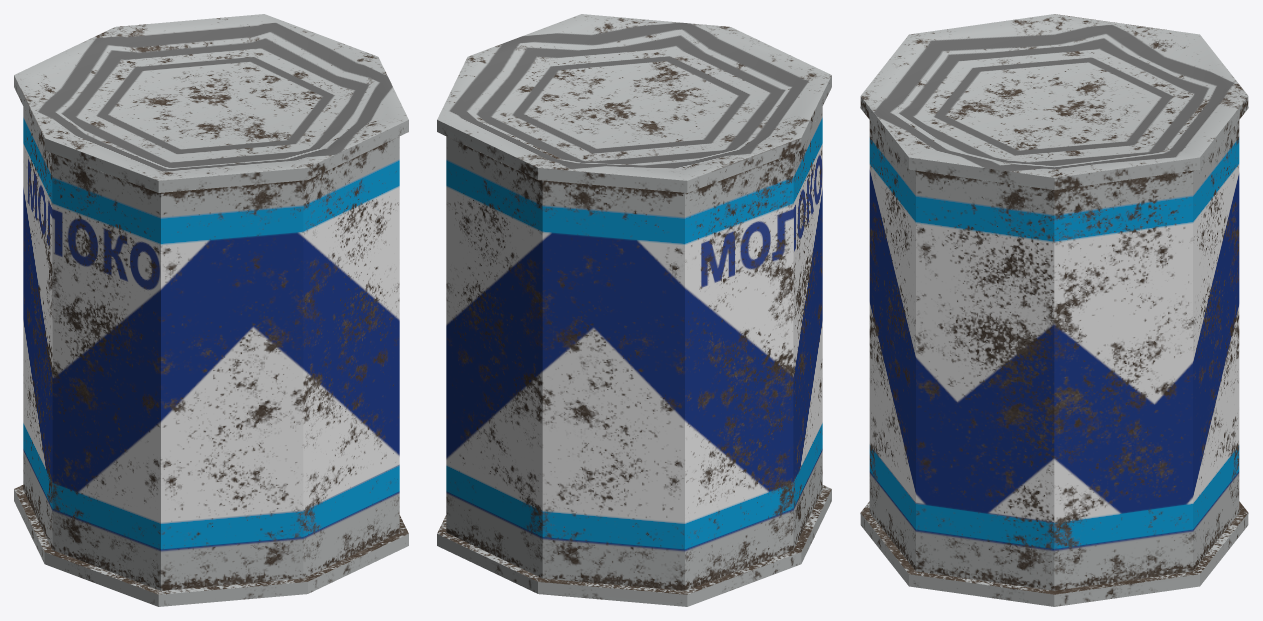
Rendered from Can_Textured.fbx.
3 views of the same model, side by side, from view 1: azimuth 30°, elevation 25°; view 2: azimuth 150°, elevation 25°; view 3: azimuth 270°, elevation 25° (orthographic).
Parts seen in each view (by area): view 1: Can, Can_Top2, Can_Top1; view 2: Can, Can_Top2, Can_Top1; view 3: Can, Can_Top2, Can_Top1.
Boxes of the visible parts, bbox=[...] form: Can: bbox=[23, 107, 399, 594]; Can_Top2: bbox=[14, 14, 408, 192]; Can_Top1: bbox=[14, 485, 408, 606]; Can: bbox=[446, 107, 822, 594]; Can_Top2: bbox=[437, 14, 831, 192]; Can_Top1: bbox=[437, 485, 831, 606]; Can: bbox=[869, 120, 1239, 593]; Can_Top2: bbox=[860, 14, 1248, 190]; Can_Top1: bbox=[860, 501, 1248, 606].
Size of the model in its own units: 1.12 by 1.36 by 1.12.
1 material, 1 textured.
